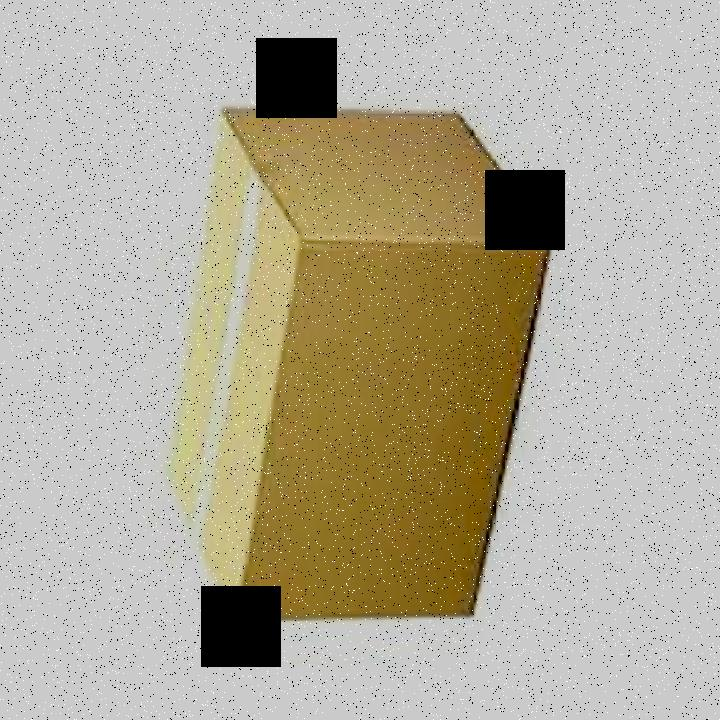box: (168, 98, 558, 638)
